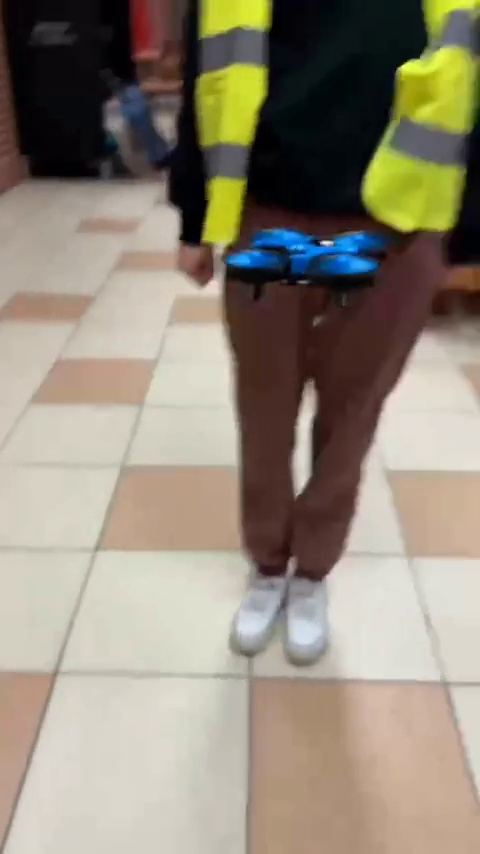drone: (213, 225, 394, 303)
